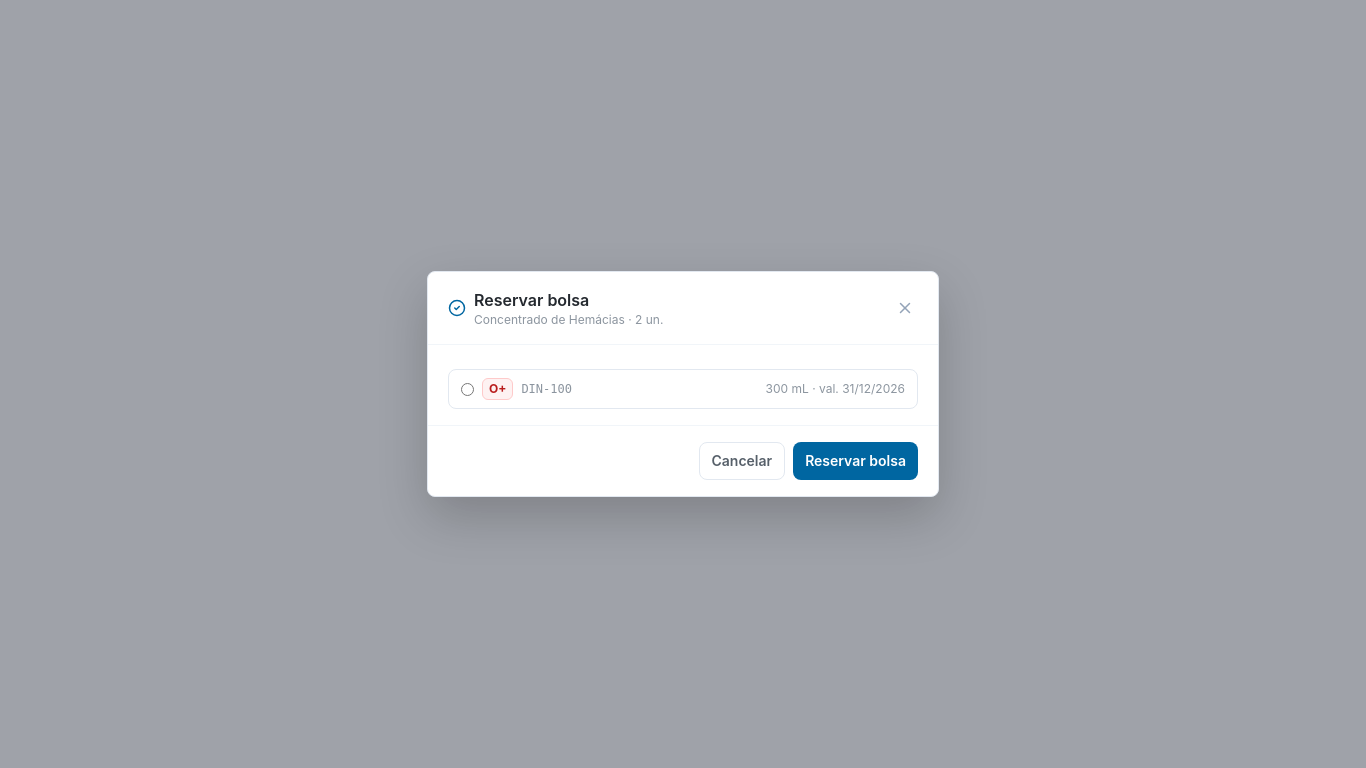
Test: ReserveBagModal › surfaces a 409 (incompatible/unavailable bag) as a friendly message
Expected: the text "DIN-100" is shown, [521, 381, 572, 397]
Step 1. Click the radio button → {"x": 468, "y": 389}, box [461, 382, 474, 396]
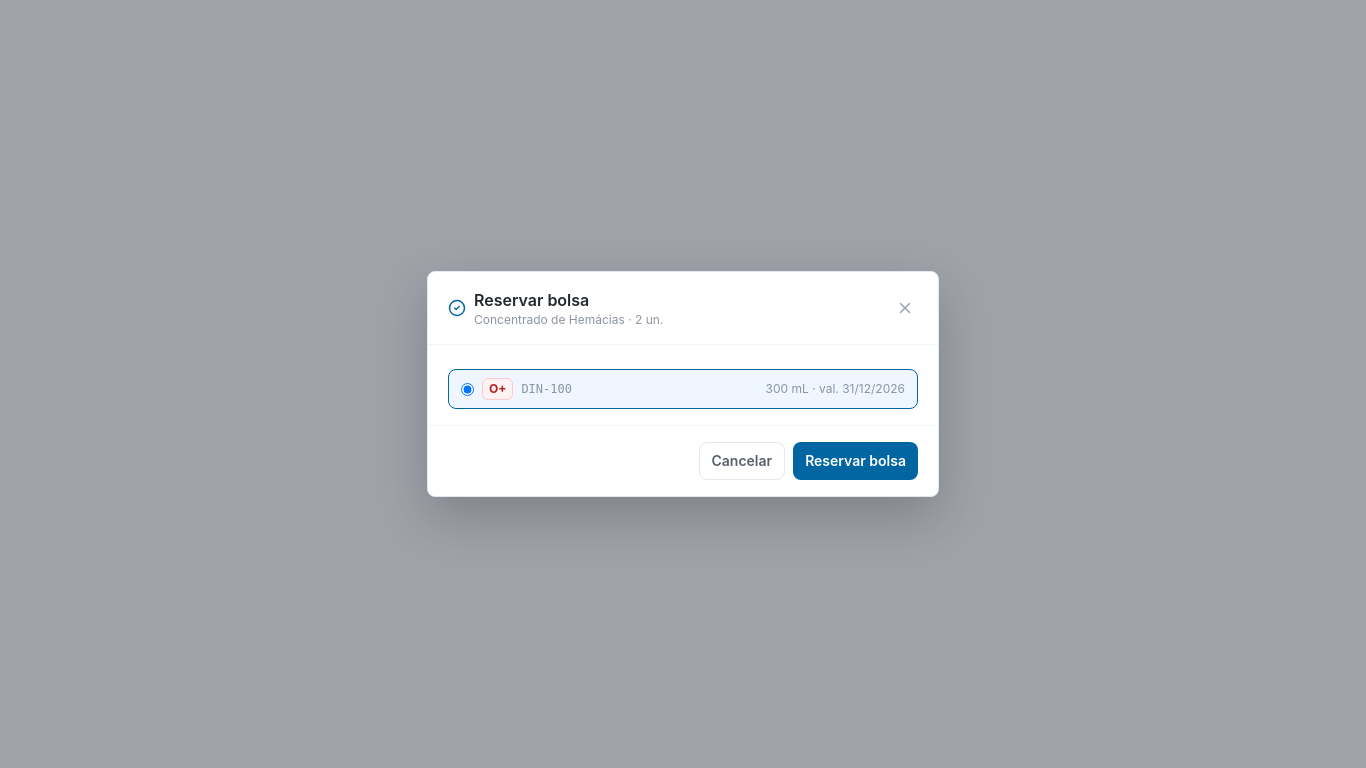
Step 2. Click the button "Reservar bolsa" → {"x": 856, "y": 461}, box [793, 442, 918, 480]
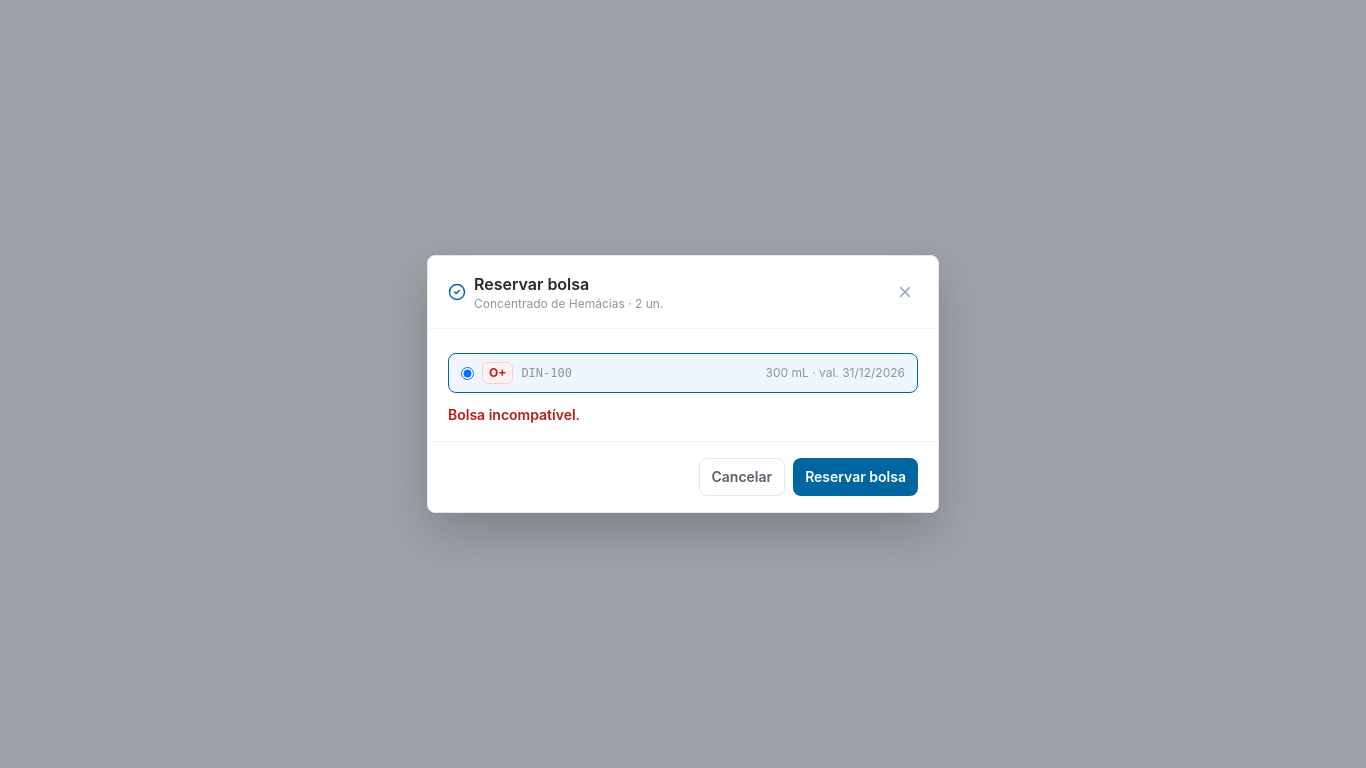
Expected: the text "Bolsa incompatível." is shown, [448, 406, 580, 423]
